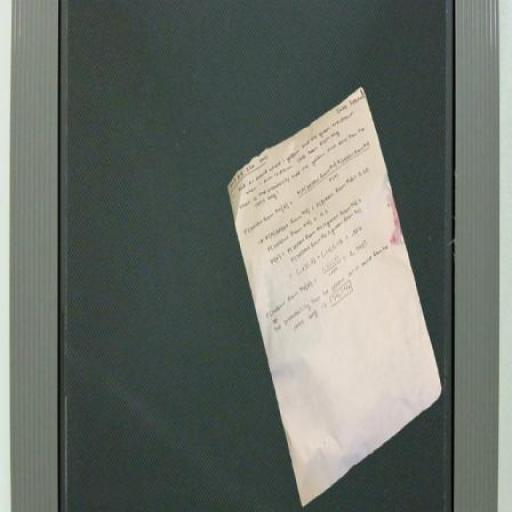paper: (207, 25, 448, 512)
